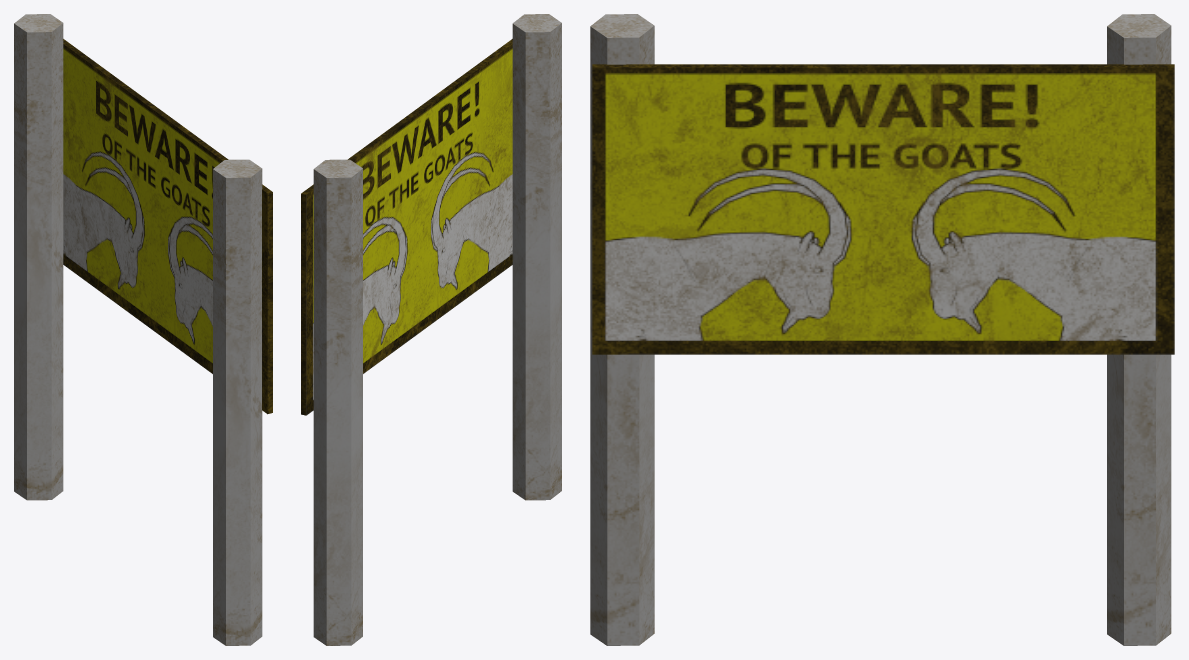
The model's file is sign.fbx.
The picture shows the model from 3 angles, left to right: view 1: azimuth 30°, elevation 25°; view 2: azimuth 150°, elevation 25°; view 3: azimuth 270°, elevation 25°; orthographic projection. The views are drawn at different scales.
Parts seen in each view (by area): view 1: beware_sign1; view 2: beware_sign1; view 3: beware_sign1.
Part boxes in pixels (box(x1,y1,x2,y2)): beware_sign1: box(14, 14, 272, 645); beware_sign1: box(301, 14, 561, 645); beware_sign1: box(590, 14, 1174, 645).
Bounding box in the file's own units: 11.41 × 120 × 104.
1 material, 1 textured.
